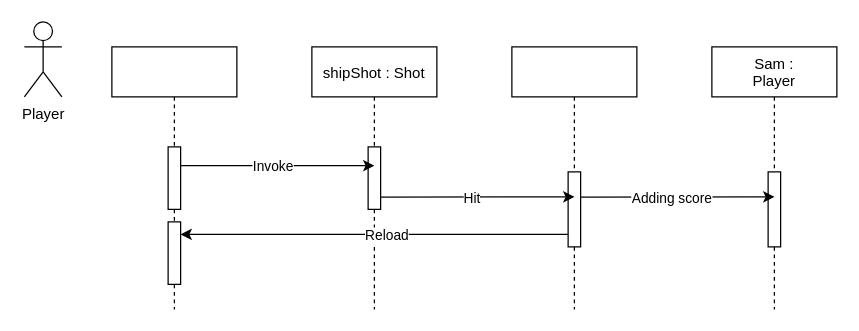
Image size: 859x331. Some labels were removed from this diagram. Each missing label, with the centre of its shape:
alien1 : Alien: pixel 574 177
mainShip : Ship: pixel 174 177
